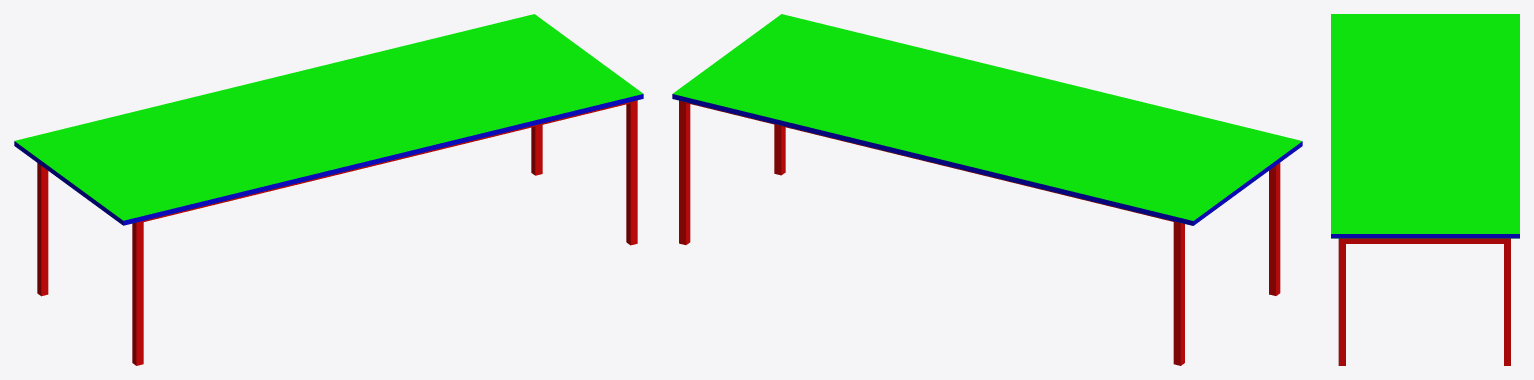
The model's file is Whitelongtable.fbx.
3 views of the same model, side by side, from view 1: azimuth 30°, elevation 25°; view 2: azimuth 150°, elevation 25°; view 3: azimuth 270°, elevation 25° (orthographic). The views are drawn at different scales.
Visible parts, largest first — view 1: TableTop, TableBase; view 2: TableTop, TableBase; view 3: TableTop, TableBase.
Part boxes in pixels (x1,y1,x2,y2): TableTop: (14,14,643,225); TableBase: (37,100,637,365); TableTop: (672,14,1302,225); TableBase: (679,100,1280,365); TableTop: (1331,14,1519,238); TableBase: (1338,238,1510,365).
Bounding box in the file's own units: 103 × 284 × 79.75.
